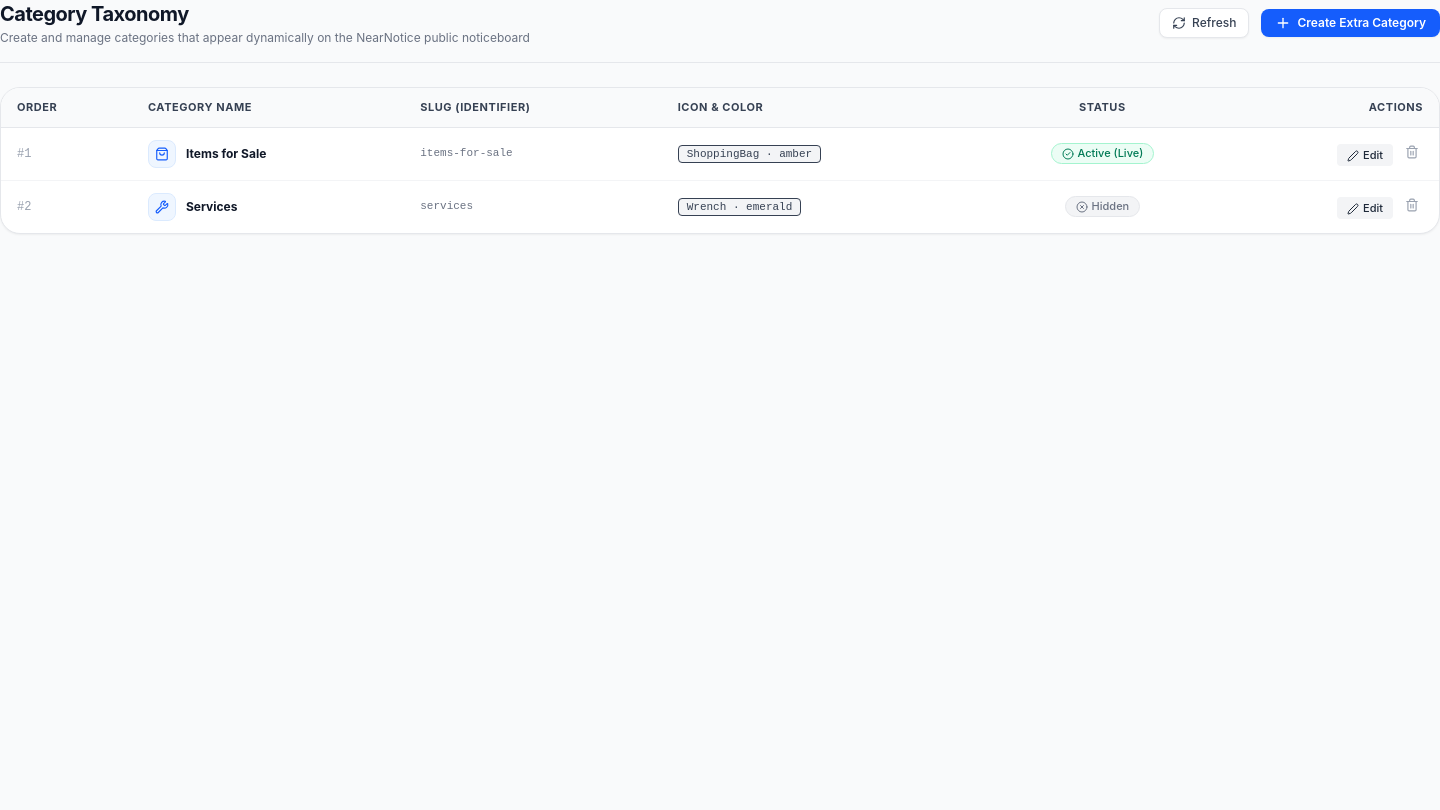
Test: AuthorCategories Component › opens category creation modal when clicking "Add Category"
Expected: the text "Items for Sale" is shown, [186, 146, 266, 162]
Click the button "Create Extra Category".
click(1351, 23)  # box [1262, 9, 1439, 37]
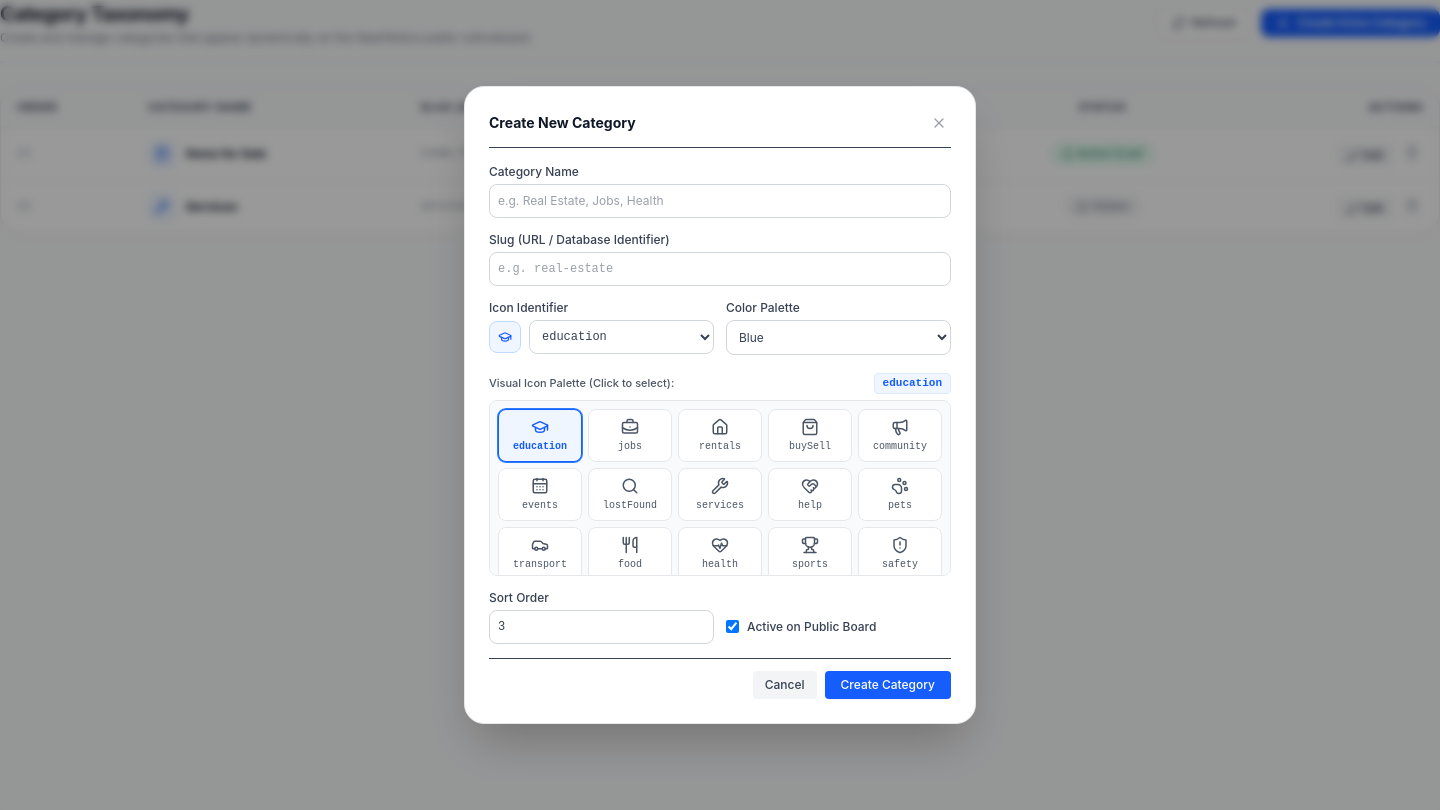
Result: the heading "Create New Category" is shown at [489, 113, 636, 133]
Result: the field with placeholder "e.g. Real Estate, Jobs, Health" is shown at [489, 184, 951, 218]
